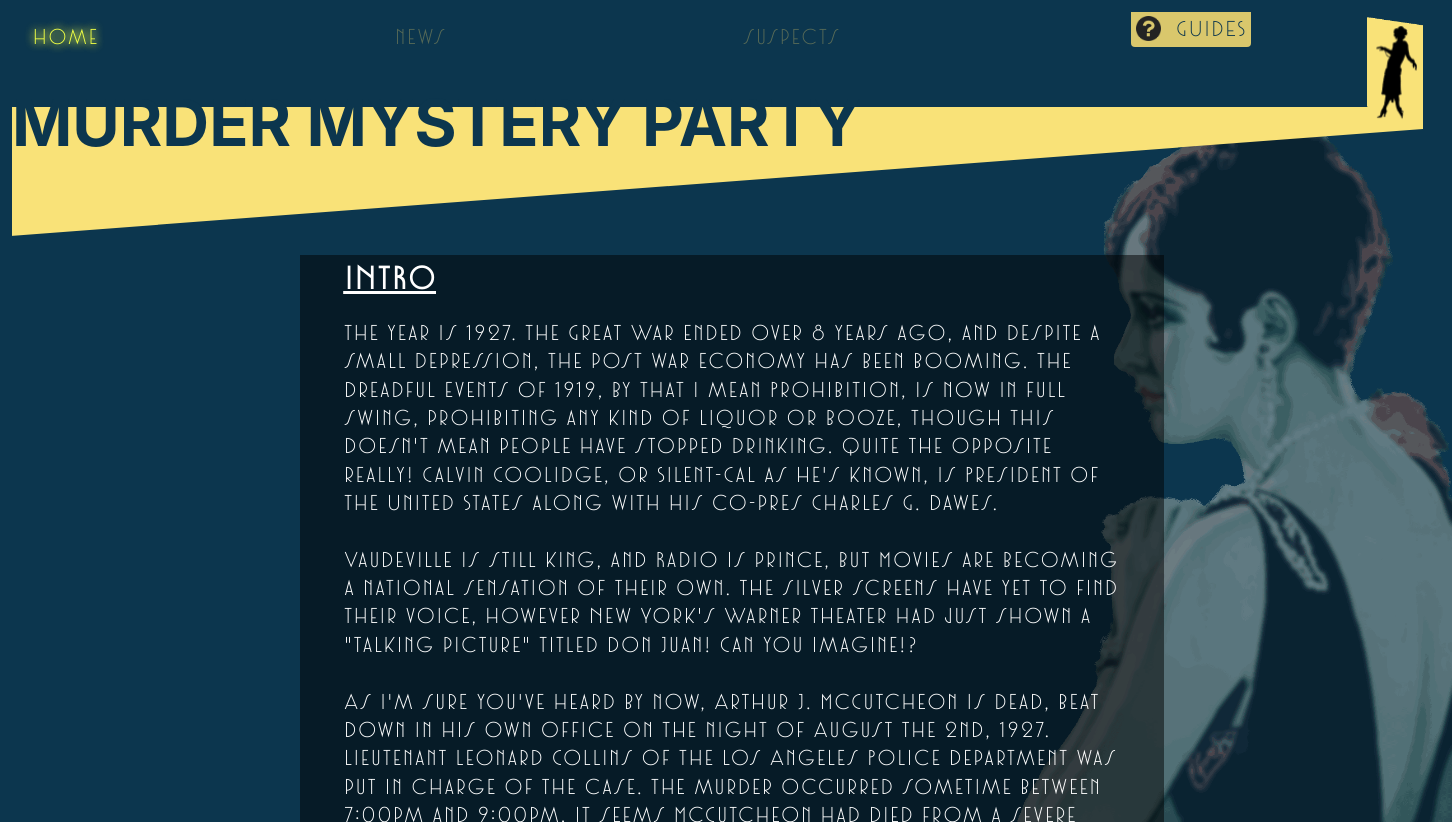
Test: The Suspects Component › should open the password modal
The width and height of the screenshot is (1452, 822).
Changes content to suspects page
Click the button with test id "nav-suspects".
click(791, 36)  # box [737, 18, 845, 54]
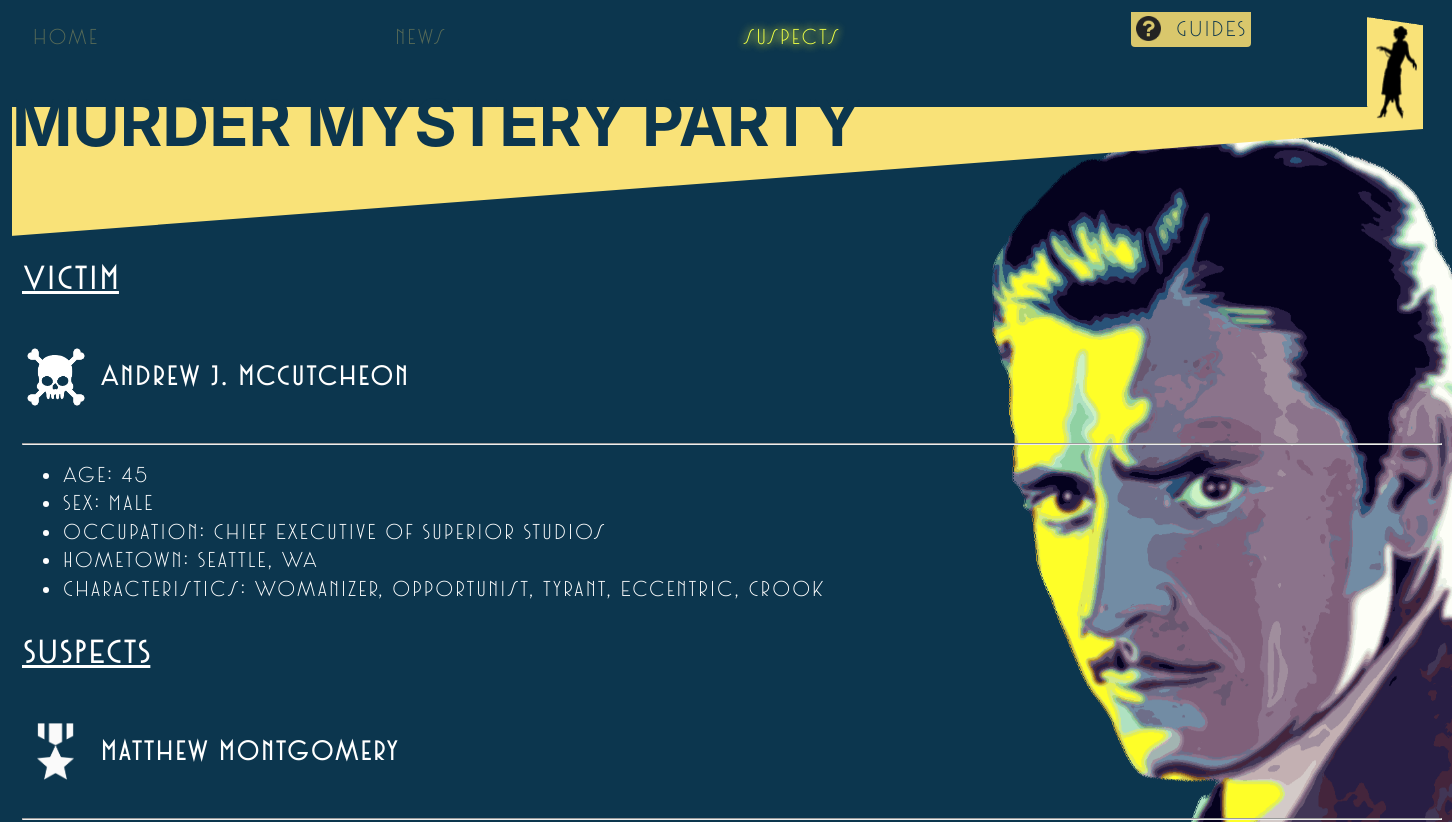
Clicks on a character profile to simulate opening password modal
Click the button with class "character-title" showing "Matthew Montgomery".
click(213, 752)  # box [22, 694, 403, 810]
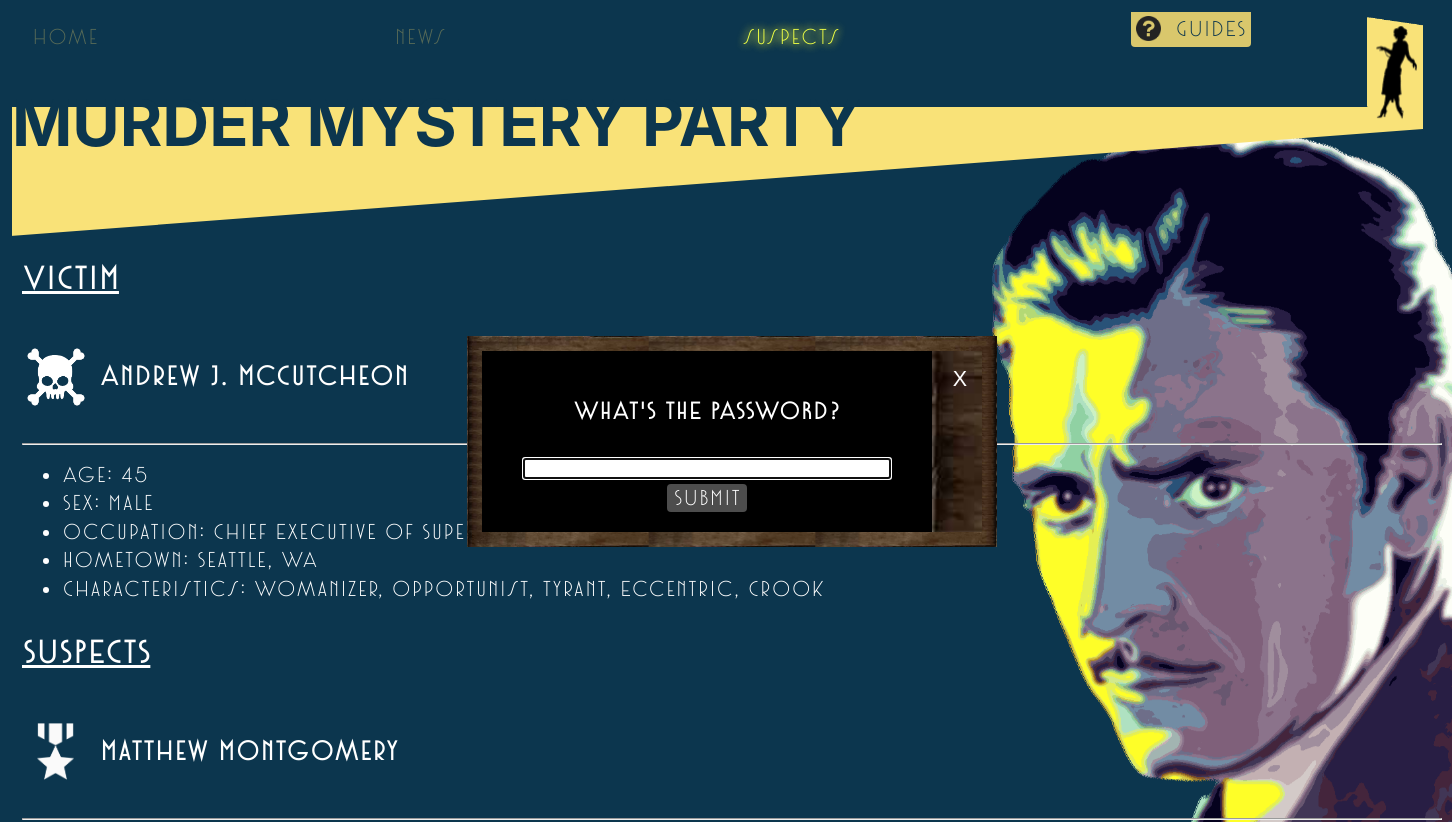
Check: the element with class "open" is shown, box [467, 336, 997, 547]
